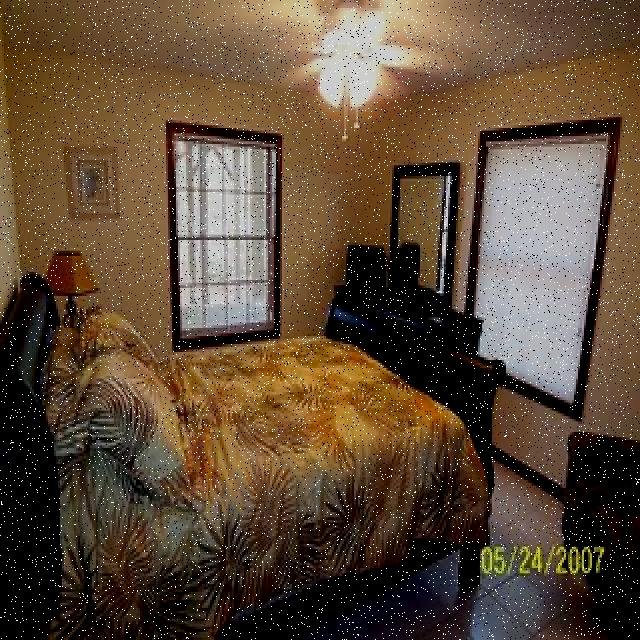bed: (0, 304, 486, 640)
